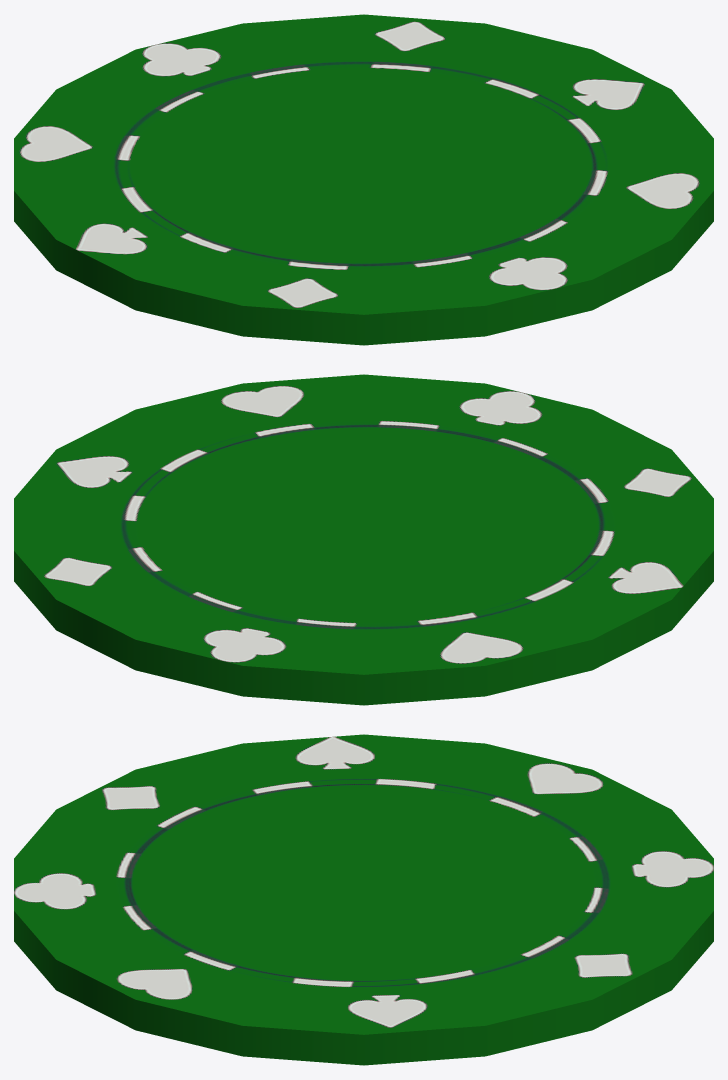
The model's file is pokerChipGreen.FBX.
The picture shows the model from 3 angles, top to bottom: view 1: azimuth 30°, elevation 25°; view 2: azimuth 150°, elevation 25°; view 3: azimuth 270°, elevation 25°; orthographic projection.
Visible parts, largest first — view 1: Cylinder001; view 2: Cylinder001; view 3: Cylinder001.
Boxes of the visible parts, bbox=[...] form: Cylinder001: bbox=[14, 14, 713, 345]; Cylinder001: bbox=[14, 374, 713, 705]; Cylinder001: bbox=[14, 734, 713, 1065].
Size of the model in its own units: 4.12 by 0.1958 by 4.05.
Materials: 1 (1 with a texture image).
